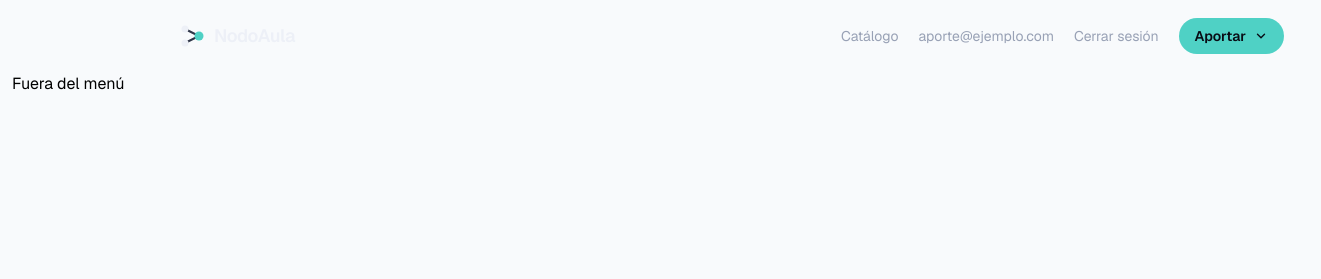
Test: SiteHeader › «Aportar» abre las dos formas de aportar
The image size is (1321, 279).
Step 1. Click the button "Aportar" → point(1231, 36), box [1179,18,1284,54]
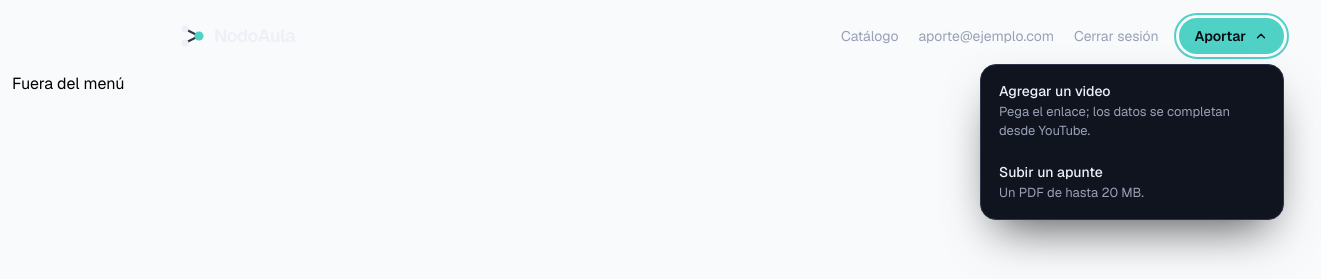
Expected: the button "Aportar" is expanded, [1179,18,1284,54]
